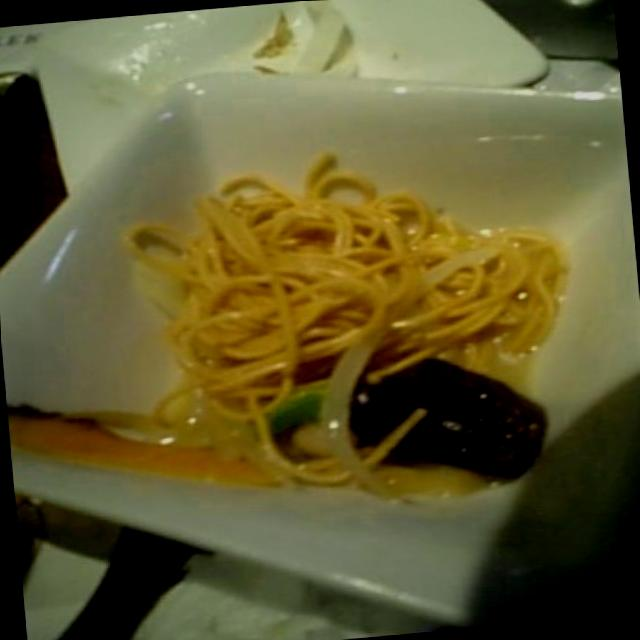Pasta: (124, 148, 552, 434)
